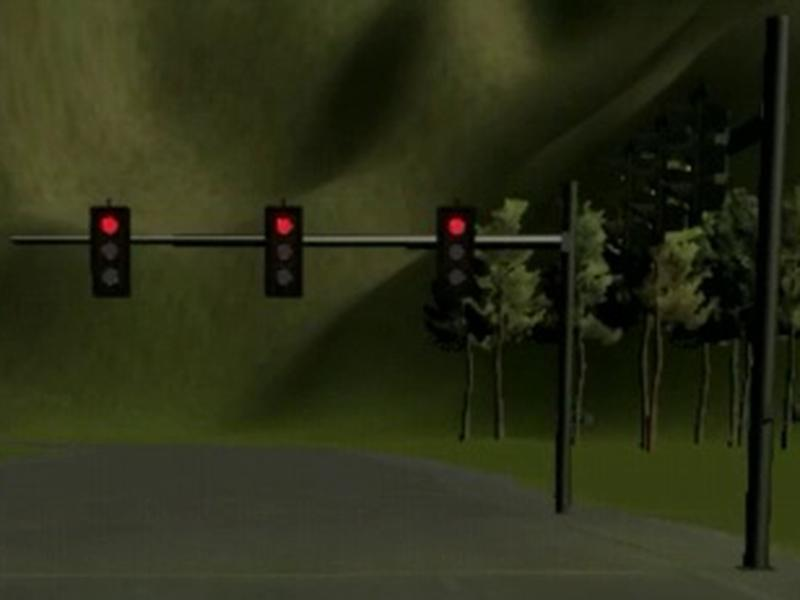Red: (91, 206, 131, 297), (266, 205, 302, 296), (438, 205, 474, 293)
